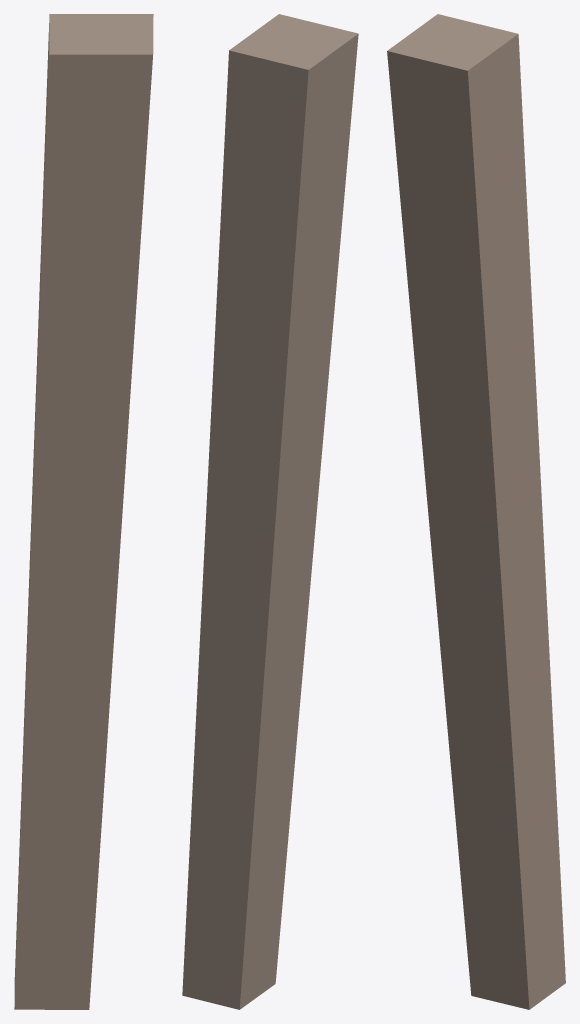
Rendered from leg4.obj.
The picture shows the model from 3 angles, left to right: view 1: azimuth 90°, elevation 25°; view 2: azimuth 150°, elevation 25°; view 3: azimuth 330°, elevation 25°; orthographic projection. The views are drawn at different scales.
Visible parts, largest first — view 1: leg4; view 2: leg4; view 3: leg4.
Boxes of the visible parts, x1=… form: leg4: x1=14, y1=14, x2=153, y2=1009; leg4: x1=182, y1=14, x2=358, y2=1009; leg4: x1=387, y1=14, x2=565, y2=1009.
Bounding box in the file's own units: 2.54 × 20.73 × 2.66.
